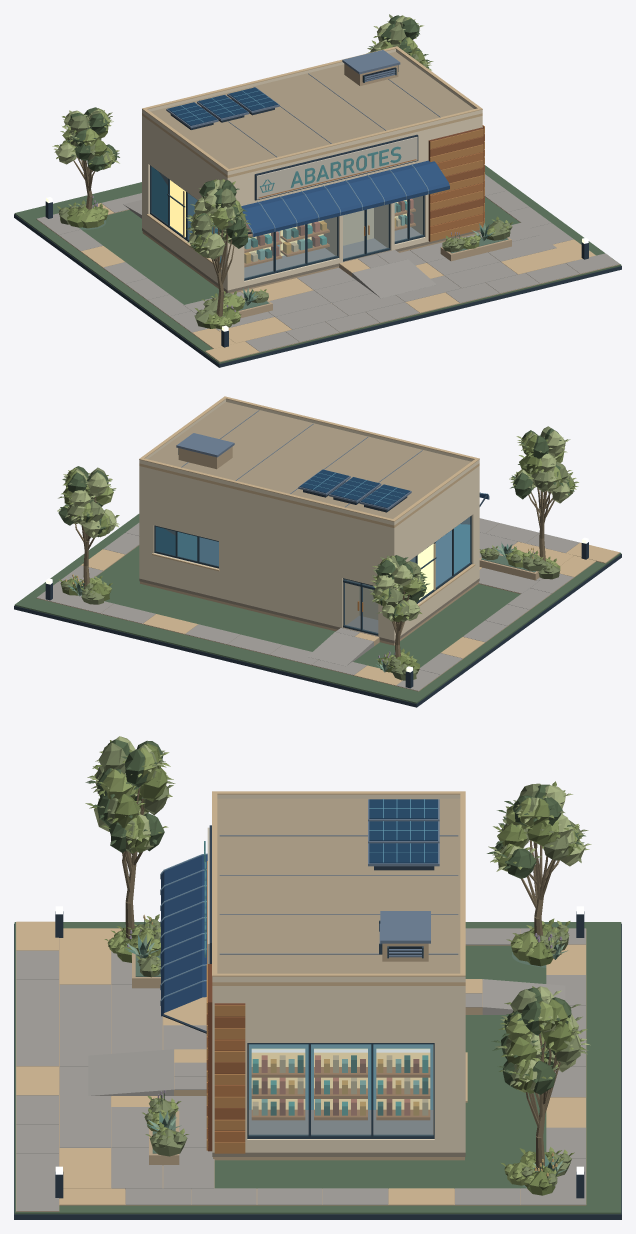
The model's file is tienda_abarrotes.fbx.
3 renders of one model, top to bottom at view 1: azimuth 30°, elevation 25°; view 2: azimuth 150°, elevation 25°; view 3: azimuth 270°, elevation 25°, orthographic. The views are drawn at different scales.
Visible parts, largest first — view 1: Senderos y explanadas, Marquesinas, Muros, Islas de plantacion, Remates minerales, Equipamiento de fachada, Cristales transparentes, Arbol 204, Senaletica, Setos y herbaceas, Piedra y bordillos, Arbol 202 (+5 smaller); view 2: Muros, Marquesinas, Islas de plantacion, Senderos y explanadas, Equipamiento de fachada, Arbol 204, Acristalamiento opaco, Arbol 203, Piedra y bordillos, Setos y herbaceas, Arbol 202, Remates minerales (+3 smaller); view 3: Senderos y explanadas, Marquesinas, Islas de plantacion, Muros, Equipamiento de fachada, Cristales transparentes, Remates minerales, Arbol 204, Setos y herbaceas, Arbol 203, Arbol 202, Piedra y bordillos (+3 smaller).
Part boxes in pixels (x1=…): Senderos y explanadas: x1=36, y1=174, x2=619, y2=362; Marquesinas: x1=142, y1=46, x2=482, y2=237; Muros: x1=142, y1=115, x2=482, y2=290; Islas de plantacion: x1=14, y1=165, x2=621, y2=363; Remates minerales: x1=142, y1=125, x2=484, y2=293; Equipamiento de fachada: x1=166, y1=50, x2=415, y2=267; Cristales transparentes: x1=244, y1=196, x2=422, y2=278; Arbol 204: x1=185, y1=179, x2=253, y2=316; Senaletica: x1=254, y1=134, x2=418, y2=200; Setos y herbaceas: x1=57, y1=196, x2=513, y2=329; Piedra y bordillos: x1=14, y1=214, x2=621, y2=367; Arbol 202: x1=52, y1=107, x2=119, y2=209; Muros: x1=139, y1=466, x2=479, y2=640; Marquesinas: x1=139, y1=396, x2=489, y2=527; Islas de plantacion: x1=14, y1=514, x2=621, y2=703; Senderos y explanadas: x1=36, y1=518, x2=619, y2=691; Equipamiento de fachada: x1=176, y1=433, x2=411, y2=512; Arbol 204: x1=509, y1=426, x2=578, y2=561; Acristalamiento opaco: x1=156, y1=517, x2=470, y2=599; Arbol 203: x1=57, y1=466, x2=119, y2=588; Piedra y bordillos: x1=14, y1=554, x2=621, y2=707; Setos y herbaceas: x1=59, y1=542, x2=560, y2=680; Arbol 202: x1=368, y1=555, x2=429, y2=657; Remates minerales: x1=139, y1=553, x2=479, y2=645; Senderos y explanadas: x1=16, y1=921, x2=586, y2=1211; Marquesinas: x1=161, y1=791, x2=465, y2=1016; Islas de plantacion: x1=14, y1=922, x2=621, y2=1214; Muros: x1=212, y1=986, x2=465, y2=1152; Equipamiento de fachada: x1=251, y1=799, x2=439, y2=1120; Cristales transparentes: x1=249, y1=1044, x2=432, y2=1135; Remates minerales: x1=206, y1=964, x2=467, y2=1160; Arbol 204: x1=85, y1=736, x2=175, y2=938; Setos y herbaceas: x1=104, y1=914, x2=574, y2=1195; Arbol 203: x1=491, y1=986, x2=590, y2=1169; Arbol 202: x1=487, y1=781, x2=591, y2=937; Piedra y bordillos: x1=14, y1=923, x2=621, y2=1219.
Size of the model in its own units: 17 by 5.87 by 15.
